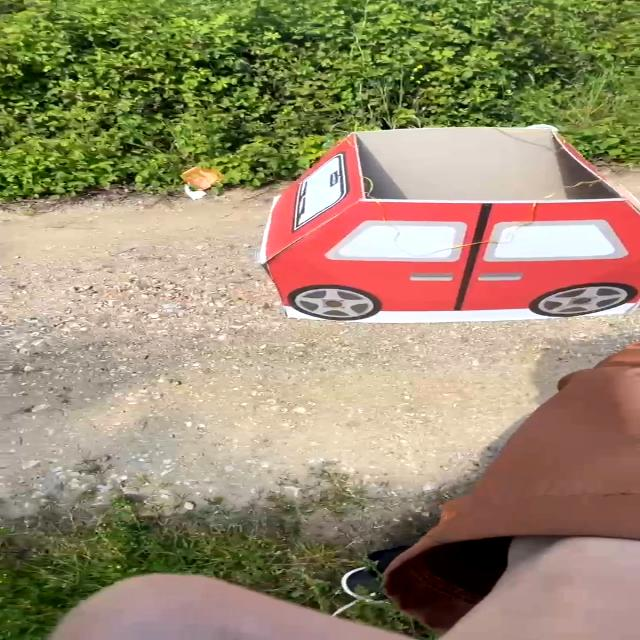red_car: (162, 98, 640, 333)
